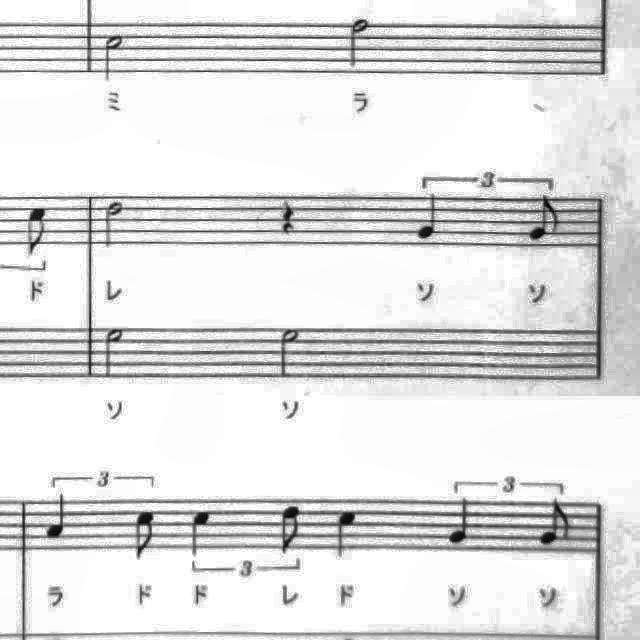Eighth-note: (532, 496, 576, 552), (524, 192, 568, 246), (128, 504, 164, 568), (271, 498, 309, 558), (19, 202, 56, 262)
Half-note: (340, 10, 378, 74), (270, 322, 308, 382), (97, 321, 131, 383), (98, 28, 132, 88), (99, 196, 129, 252)
Quarter-note: (442, 492, 482, 552), (328, 504, 364, 566), (410, 190, 450, 244), (183, 503, 217, 561), (42, 490, 76, 546)
Quarter-rest: (273, 192, 305, 240)
